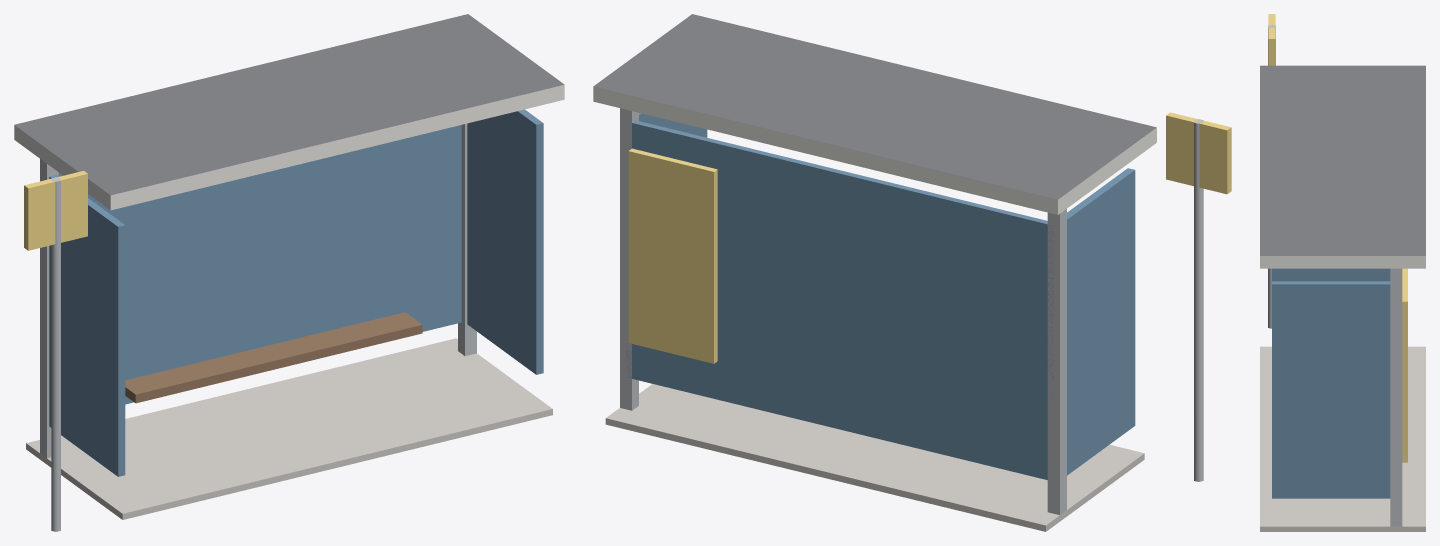
Rendered from bus_stop.glb.
The picture shows the model from 3 angles, left to right: view 1: azimuth 30°, elevation 25°; view 2: azimuth 150°, elevation 25°; view 3: azimuth 270°, elevation 25°; orthographic projection. The views are drawn at different scales.
Visible parts, largest first — view 1: bus_stop; view 2: bus_stop; view 3: bus_stop.
Part boxes in pixels (<box>): bus_stop: <box>14,14,564,531</box>; bus_stop: <box>593,14,1231,531</box>; bus_stop: <box>1260,14,1425,531</box>.
Size of the model in its own units: 4.45 by 2.8 by 1.4.
